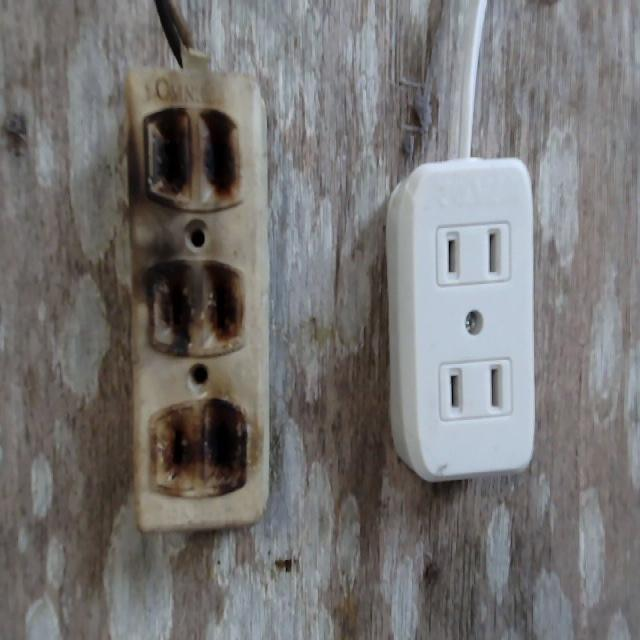-: (134, 99, 253, 502)
